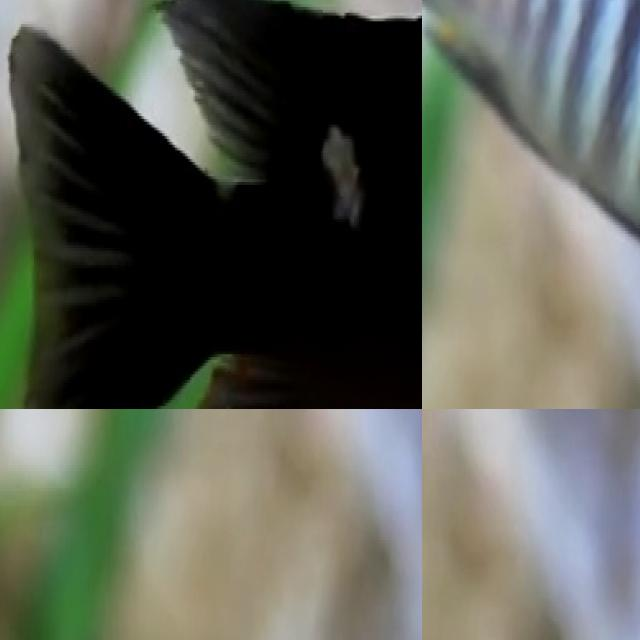fish: (0, 0, 422, 409), (422, 0, 640, 300)
